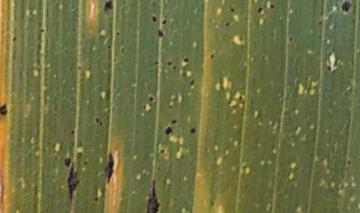tarspot: (145, 177, 161, 213), (65, 163, 80, 199), (101, 150, 115, 186), (339, 1, 354, 14), (103, 1, 113, 18), (1, 101, 8, 118), (163, 126, 174, 136), (62, 157, 72, 168), (149, 14, 158, 25), (188, 126, 197, 135), (156, 28, 164, 38), (160, 17, 168, 27), (256, 6, 264, 15), (268, 2, 276, 10), (346, 158, 353, 167), (188, 78, 195, 87), (11, 35, 18, 44), (209, 51, 215, 61), (169, 118, 177, 125), (147, 95, 154, 103), (208, 199, 215, 207), (325, 64, 332, 72), (228, 6, 236, 13), (223, 20, 231, 27), (92, 195, 100, 202), (97, 119, 104, 127), (182, 56, 190, 63), (38, 27, 46, 34), (82, 159, 89, 166), (69, 128, 76, 135), (166, 60, 173, 67), (287, 35, 293, 43), (77, 63, 83, 71), (351, 17, 357, 24), (171, 65, 178, 71), (114, 30, 121, 36), (105, 43, 112, 49), (167, 103, 173, 110), (317, 19, 323, 25), (94, 117, 100, 123), (151, 1, 157, 7), (159, 148, 164, 155), (153, 61, 160, 66)
